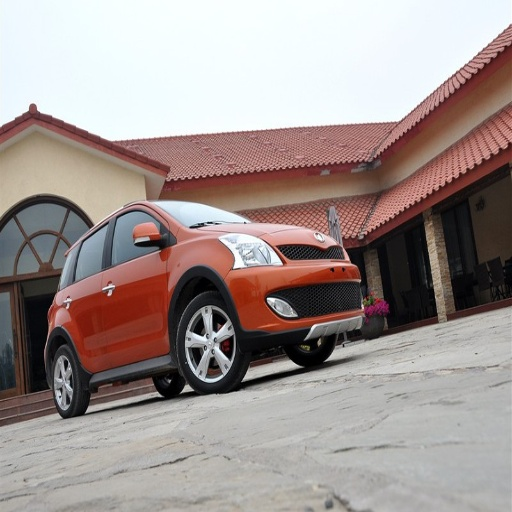front_right_door: (107, 206, 167, 361)
